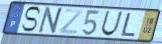5: (81, 9, 102, 37)
L: (120, 12, 137, 38)
N: (37, 6, 66, 35)
S: (20, 6, 42, 33)
U: (100, 10, 124, 37)
Z: (58, 8, 84, 35)
